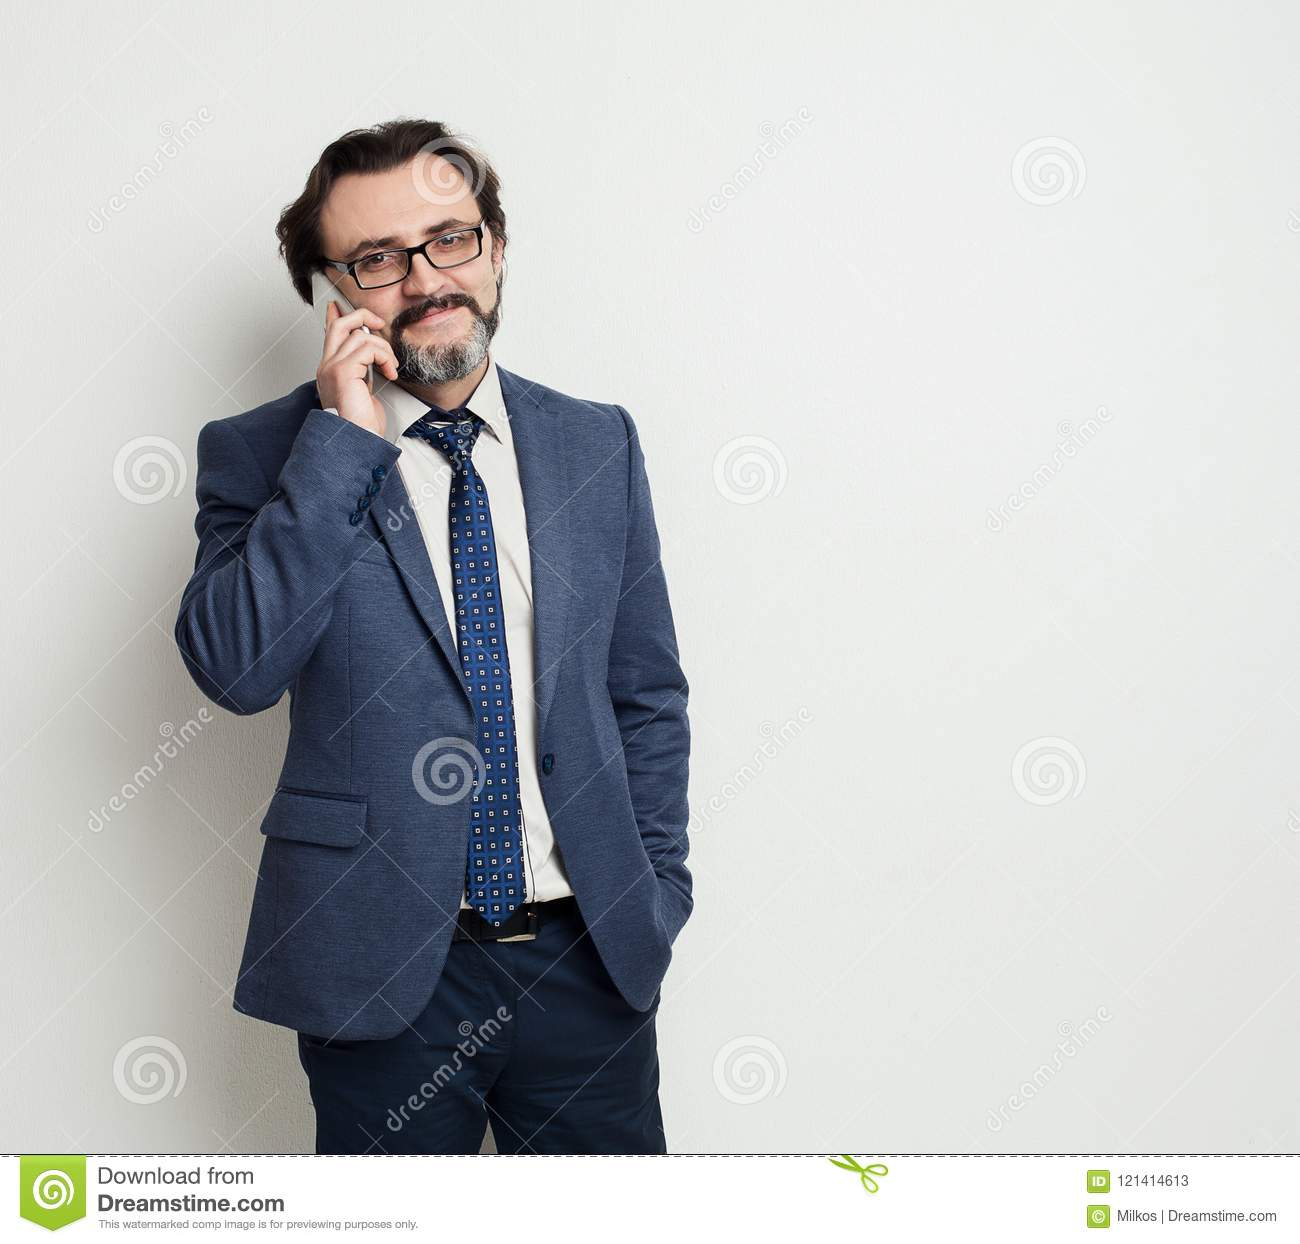phone: (309, 266, 380, 406)
talk: (306, 214, 496, 448)
